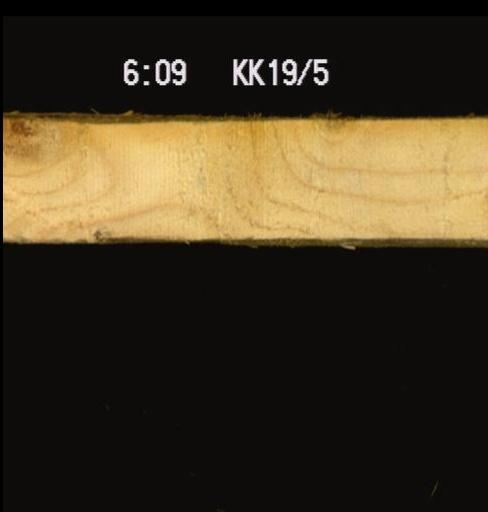edge_knot: (310, 114, 358, 146), (2, 114, 42, 144)
